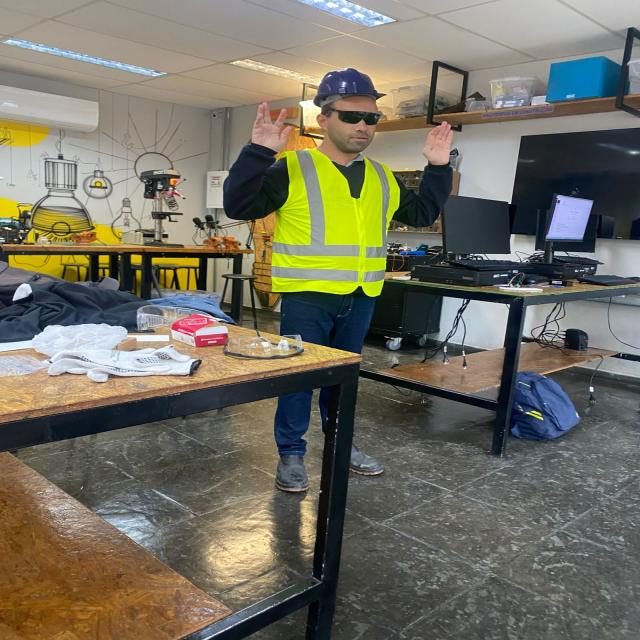BOTA: (315, 431, 384, 480), (270, 445, 316, 492)
CAPACETE: (315, 69, 384, 105)
COLETE: (271, 143, 396, 298)
OCULOS: (322, 109, 380, 128)
SEM LUVA: (247, 98, 294, 155), (421, 120, 463, 165)
